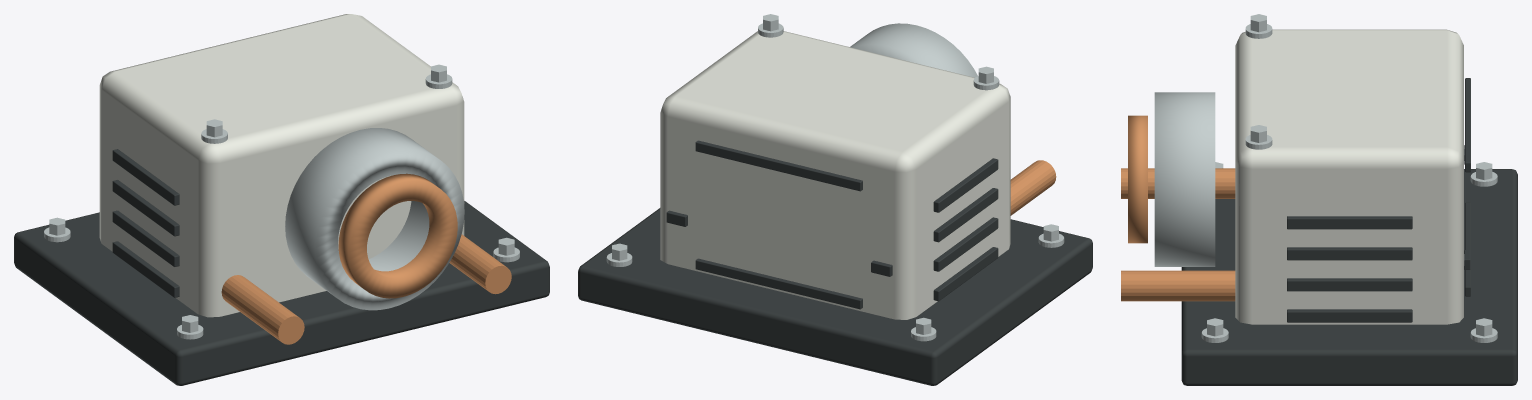
File: generation-ship-hydroponics-generation-ship-hydroponic-6e95619c__31482.glb
The picture shows the model from 3 angles, left to right: view 1: azimuth 30°, elevation 25°; view 2: azimuth 150°, elevation 25°; view 3: azimuth 270°, elevation 25°; orthographic projection. The views are drawn at different scales.
Parts seen in each view (by area): view 1: generation-ship-hydroponics-nutrient-dosing-pump; view 2: generation-ship-hydroponics-nutrient-dosing-pump; view 3: generation-ship-hydroponics-nutrient-dosing-pump.
Part boxes in pixels (x1=…): generation-ship-hydroponics-nutrient-dosing-pump: x1=14, y1=14, x2=549, y2=385; generation-ship-hydroponics-nutrient-dosing-pump: x1=578, y1=14, x2=1092, y2=385; generation-ship-hydroponics-nutrient-dosing-pump: x1=1121, y1=14, x2=1517, y2=385.
Size of the model in its own units: 0.65 by 0.365 by 0.59.
